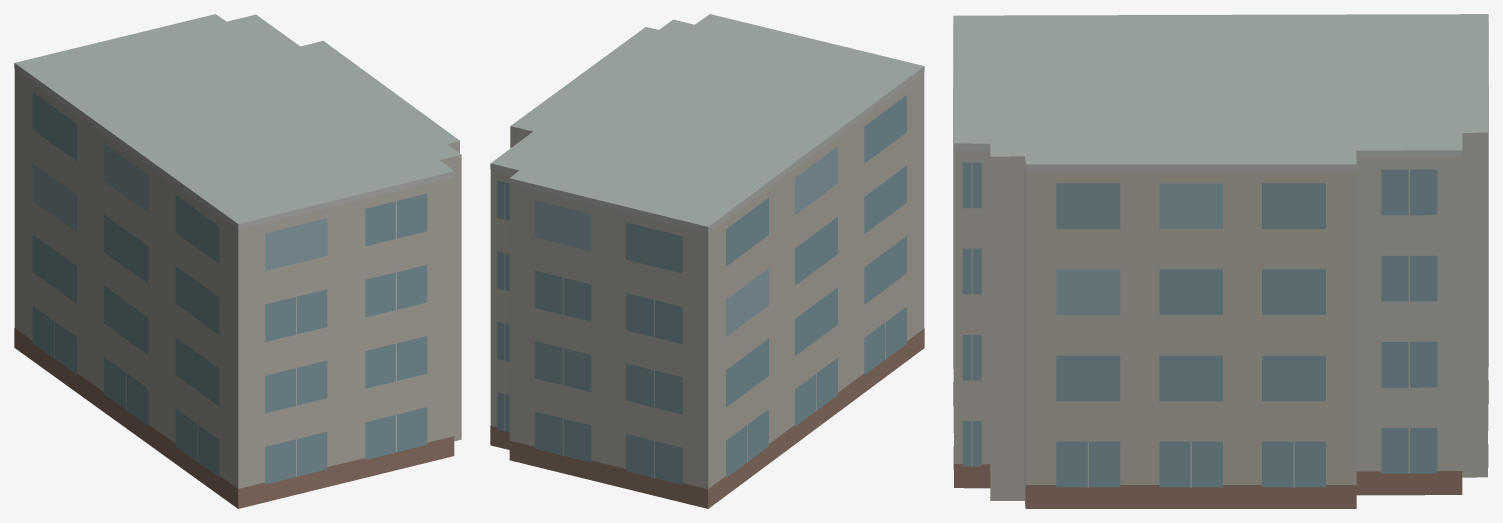
The model's file is survey-upis-33039947.glb.
The picture shows the model from 3 angles, left to right: view 1: azimuth 30°, elevation 25°; view 2: azimuth 150°, elevation 25°; view 3: azimuth 270°, elevation 25°; orthographic projection. The views are drawn at different scales.
Parts seen in each view (by area): view 1: survey-upis-33039947.tmp; view 2: survey-upis-33039947.tmp; view 3: survey-upis-33039947.tmp.
Boxes of the visible parts, <box> form: survey-upis-33039947.tmp: <box>14,14,461,508</box>; survey-upis-33039947.tmp: <box>490,14,924,508</box>; survey-upis-33039947.tmp: <box>953,14,1488,508</box>.
Bounding box in the file's own units: 11.04 × 11.8 × 16.62.
